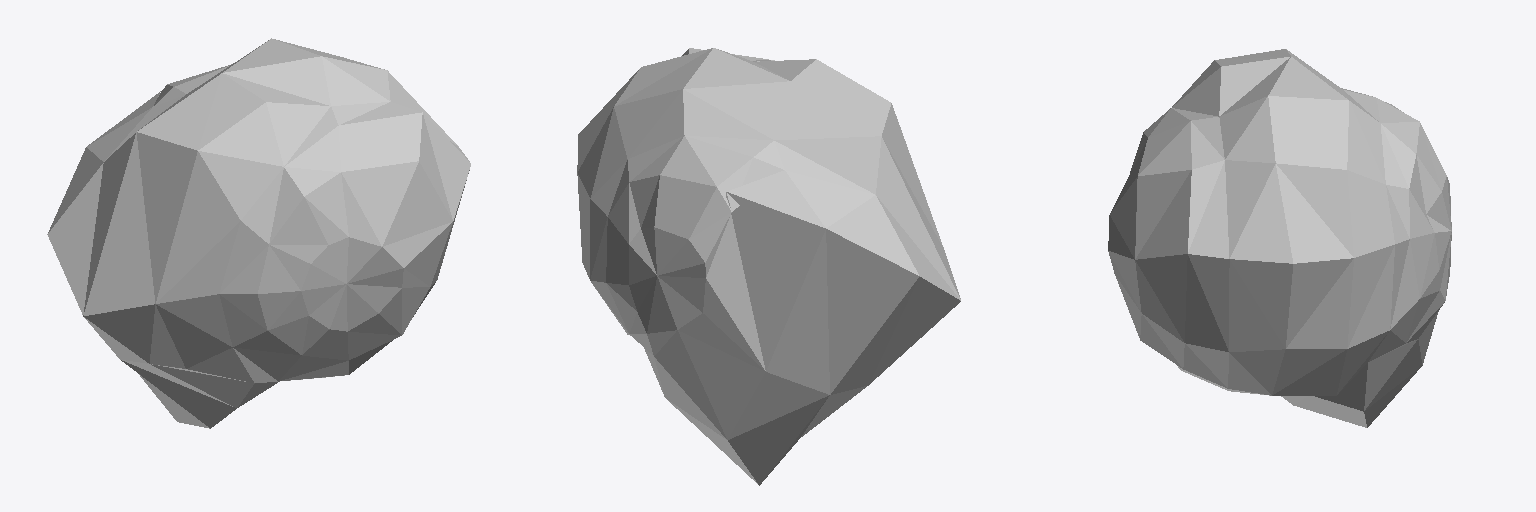
Rendered from rock.obj.
3 renders of one model, left to right at view 1: azimuth 30°, elevation 25°; view 2: azimuth 150°, elevation 25°; view 3: azimuth 270°, elevation 25°, orthographic.
Visible parts, largest first — view 1: Vertex_Object; view 2: Vertex_Object; view 3: Vertex_Object.
Part boxes in pixels (x1,y1,x2,y2): Vertex_Object: (47,38,470,428); Vertex_Object: (577,48,960,485); Vertex_Object: (1108,49,1451,427).
Size of the model in its own units: 114 by 113 by 92.99.